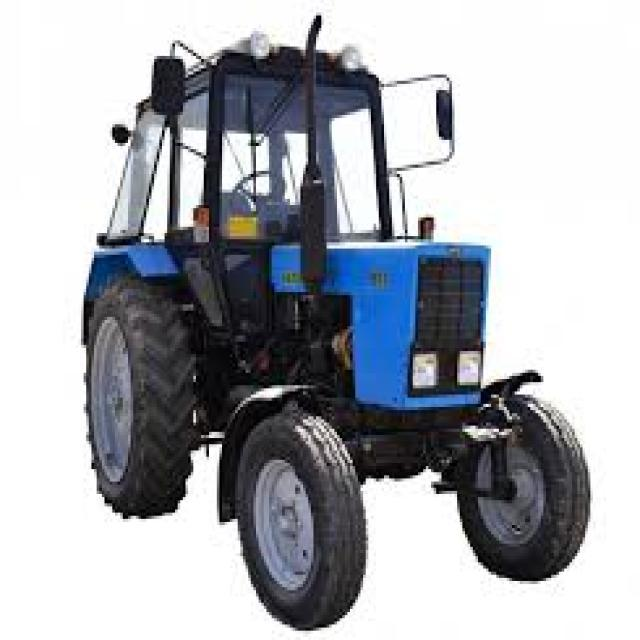Tratores - v5 YOLO V8L 2024-11-13: (84, 38, 596, 635)
